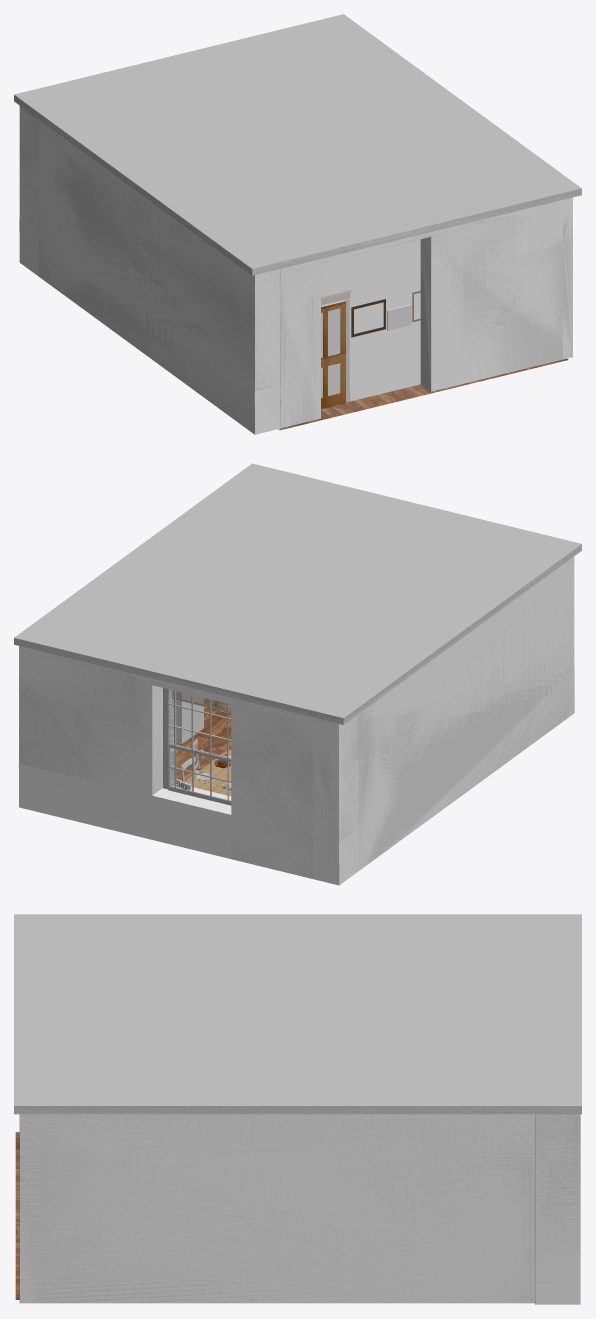
Rendered from kitchen.glb.
The picture shows the model from 3 angles, top to bottom: view 1: azimuth 30°, elevation 25°; view 2: azimuth 150°, elevation 25°; view 3: azimuth 270°, elevation 25°; orthographic projection. The views are drawn at different scales.
Visible parts, largest first — view 1: kitchen_static, COL_static, DYN_door_hall, I_door_hall, I_tablet; view 2: kitchen_static, COL_static, I_fridge; view 3: kitchen_static, COL_static.
Part boxes in pixels (left/top/right/bottom): kitchen_static: left=14, top=14, right=581, bottom=434; COL_static: left=14, top=95, right=581, bottom=434; DYN_door_hall: left=321, top=301, right=345, bottom=408; I_door_hall: left=321, top=300, right=345, bottom=397; I_tablet: left=387, top=304, right=411, bottom=330; kitchen_static: left=14, top=463, right=581, bottom=885; COL_static: left=14, top=544, right=581, bottom=884; I_fridge: left=176, top=691, right=203, bottom=743; kitchen_static: left=14, top=914, right=581, bottom=1304; COL_static: left=14, top=1106, right=581, bottom=1303.
Bounding box in the file's own units: 6.92 × 3.39 × 8.65.
Materials: 105 (41 with a texture image).
